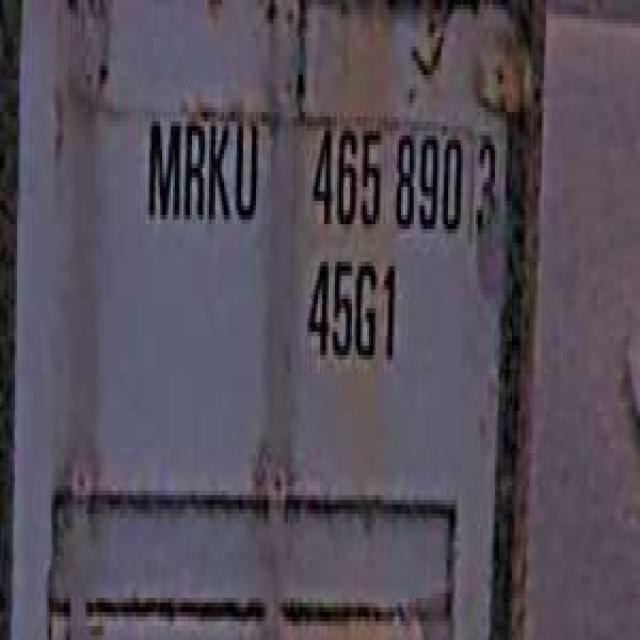dv: (470, 116, 500, 234)
owner: (138, 103, 264, 238)
serial: (303, 112, 465, 243)
size: (301, 243, 403, 374)
